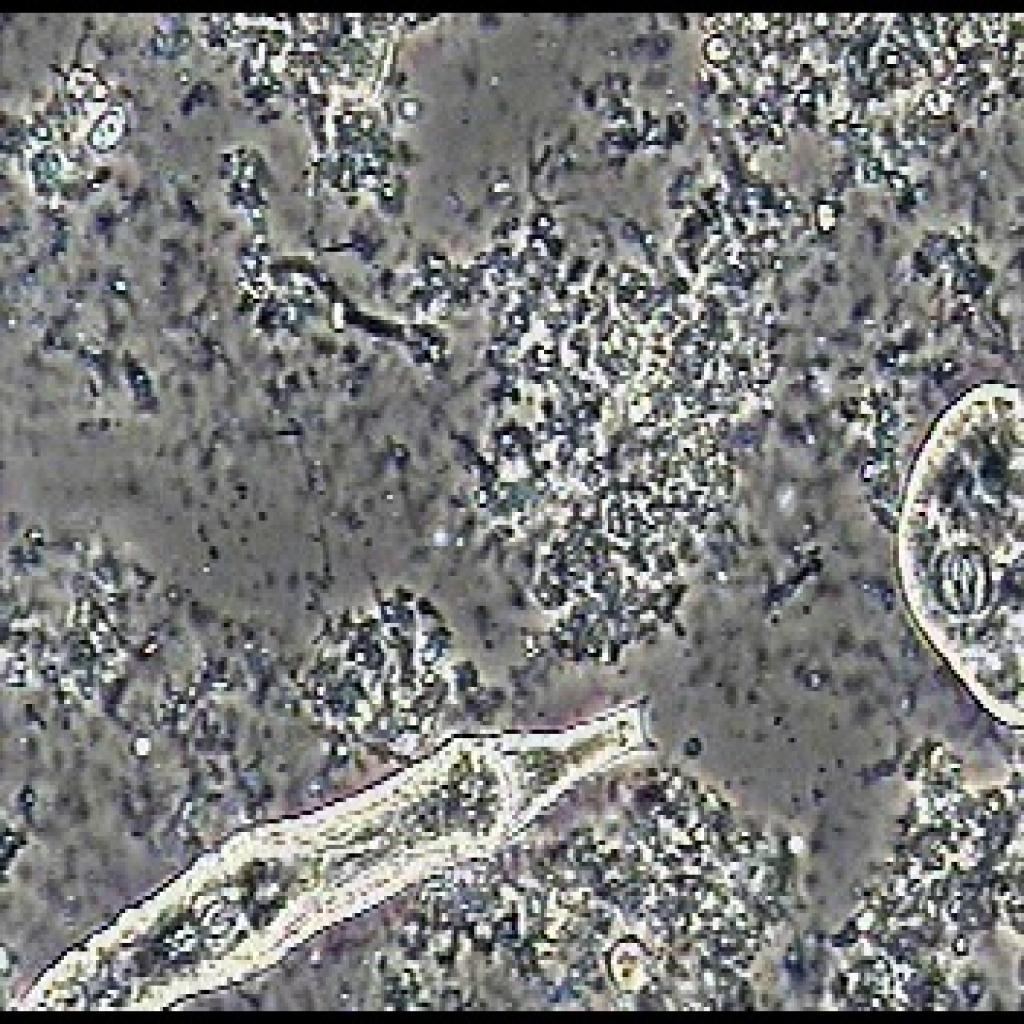Rotatoria: (8, 668, 712, 1013), (870, 339, 1024, 787)
